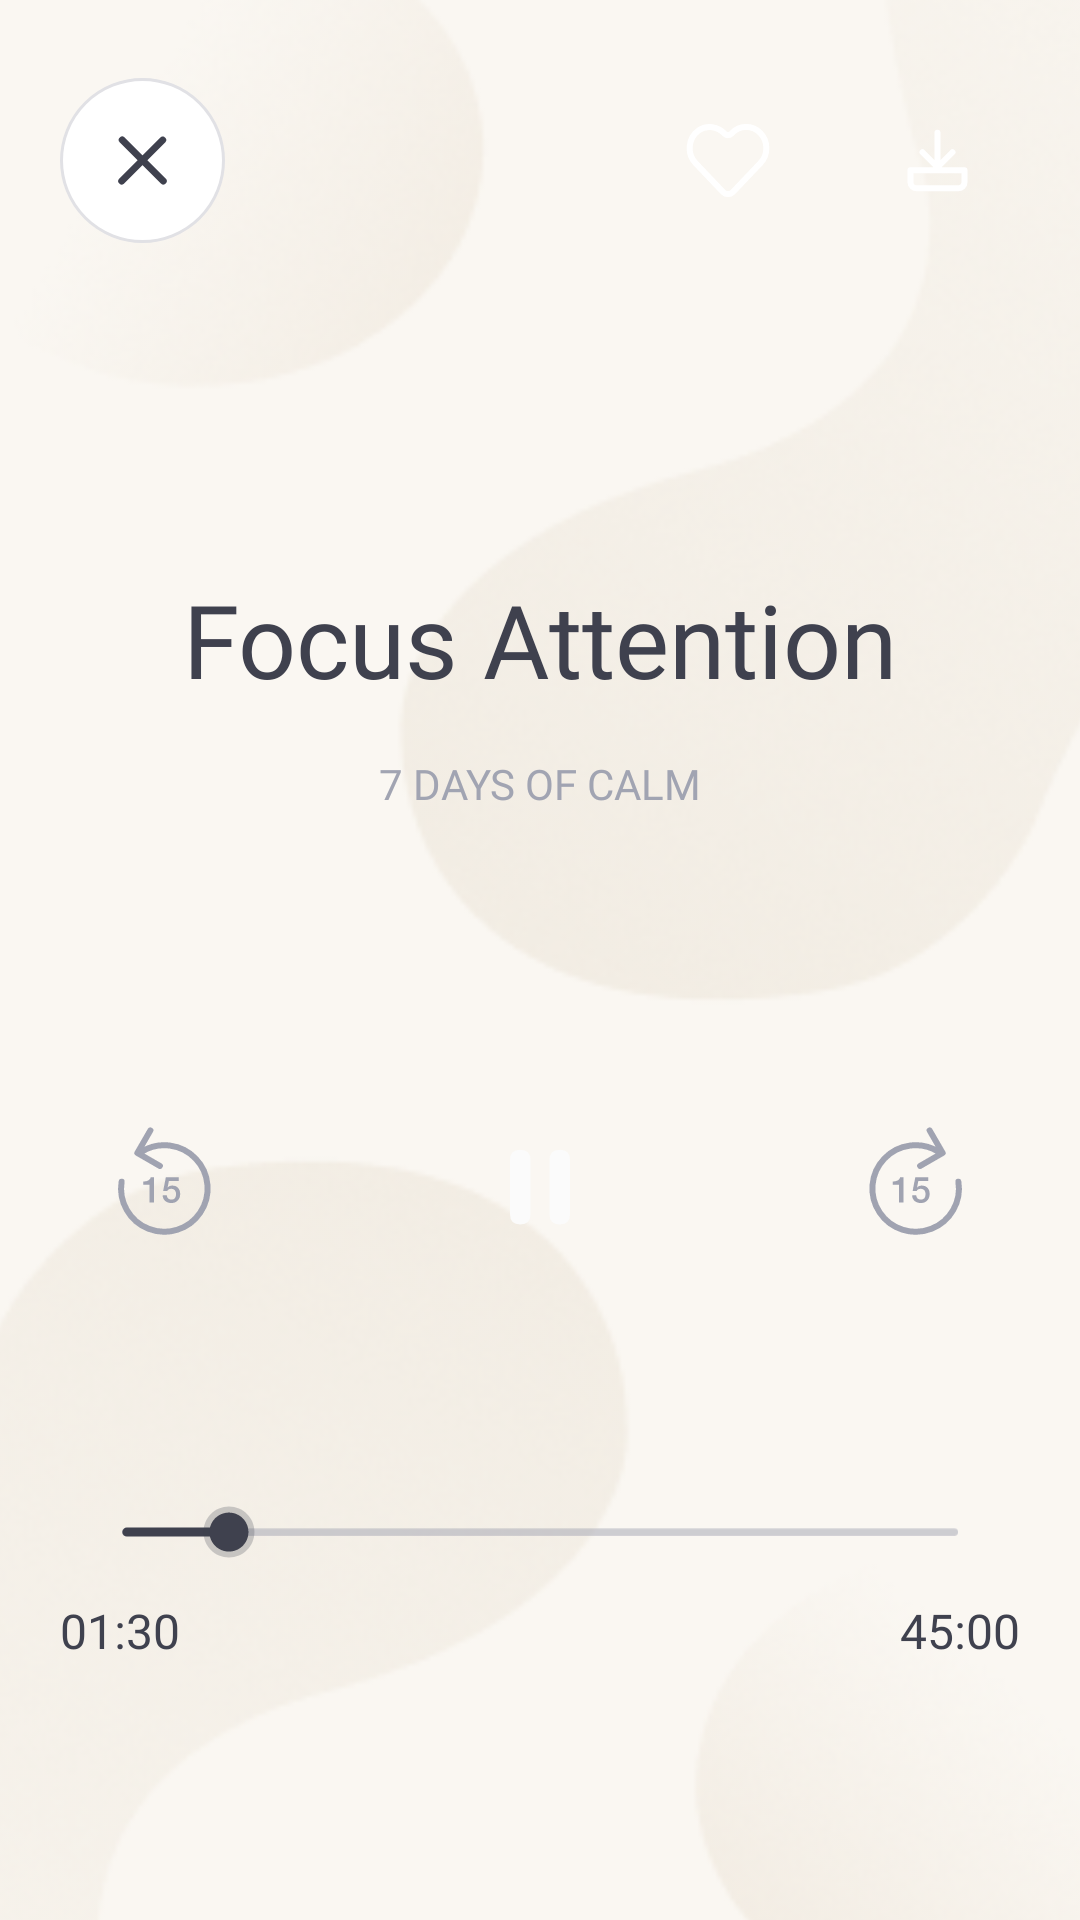

Icon bounding boxes for this 1080*1920 phone screenshot, format {"left": x1, "top": y1, "right": x2, "bottom": y2}:
skip backward: {"left": 118, "top": 1127, "right": 211, "bottom": 1235}
skip forward: {"left": 869, "top": 1127, "right": 962, "bottom": 1235}
